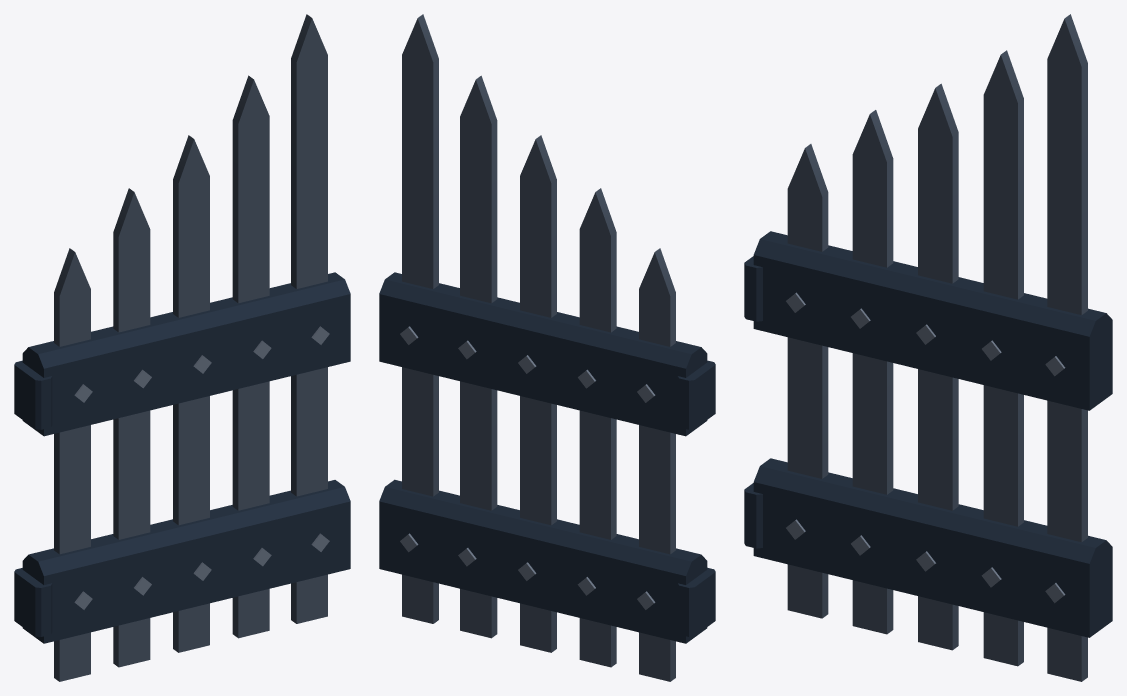
File: Gate 01.FBX
The picture shows the model from 3 angles, left to right: view 1: azimuth 30°, elevation 25°; view 2: azimuth 150°, elevation 25°; view 3: azimuth 330°, elevation 25°; orthographic projection. The views are drawn at different scales.
Parts seen in each view (by area): view 1: Gate 01; view 2: Gate 01; view 3: Gate 01.
Boxes of the visible parts, x1,y1,x2,y2 form: Gate 01: (14,14,350,681); Gate 01: (379,14,715,681); Gate 01: (744,14,1112,681).
Bounding box in the file's own units: 161 × 294 × 22.5.
Materials: 1 (1 with a texture image).
